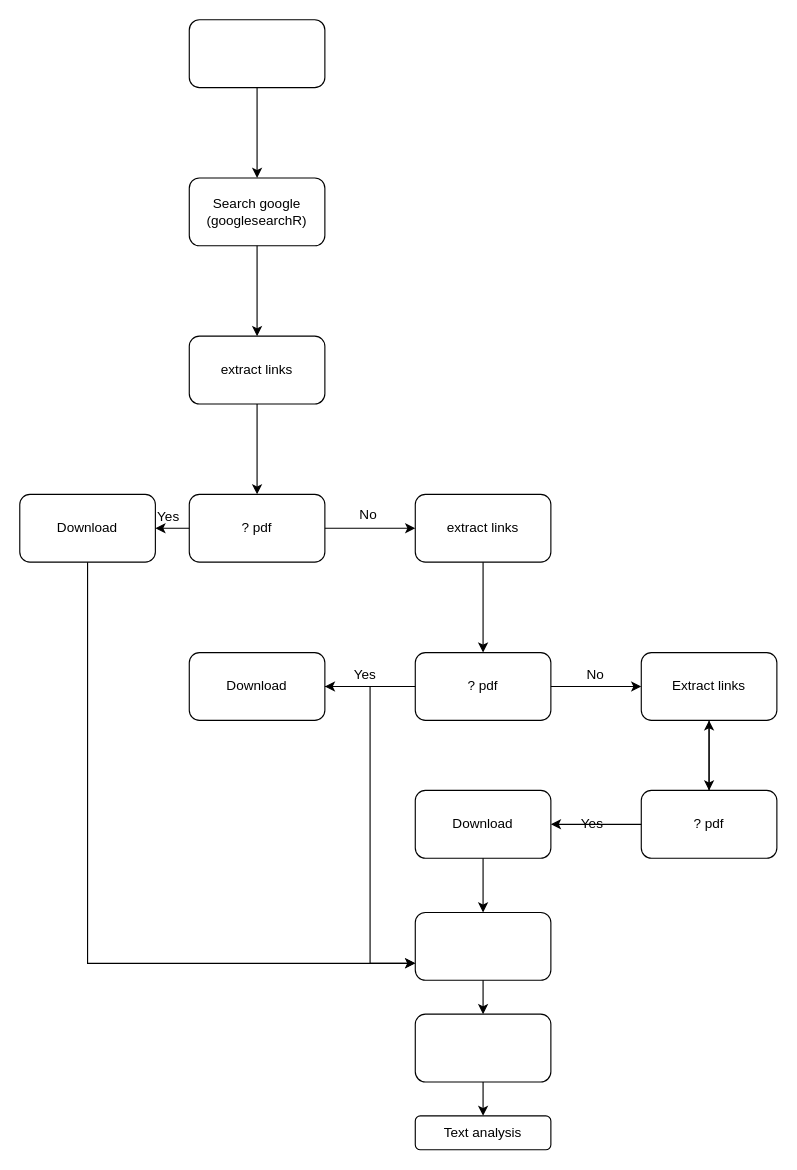
The diagram is 797 pixels wide and 1170 high, and some of its shapes have lost their labels. The shapes that lost their labels are listed below. From the top down, each one's centre as x and y in pixels, then its label:
At point 256,53: "Create search terms N = 152".
At point 482,945: "Read into R".
At point 482,1047: "Add metadata".
